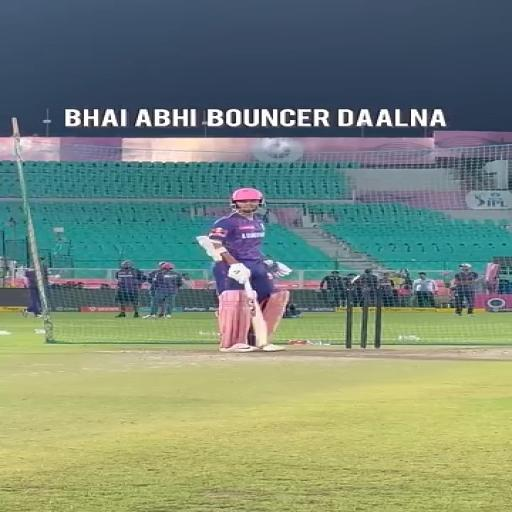Cricket bat: (245, 282, 267, 348)
